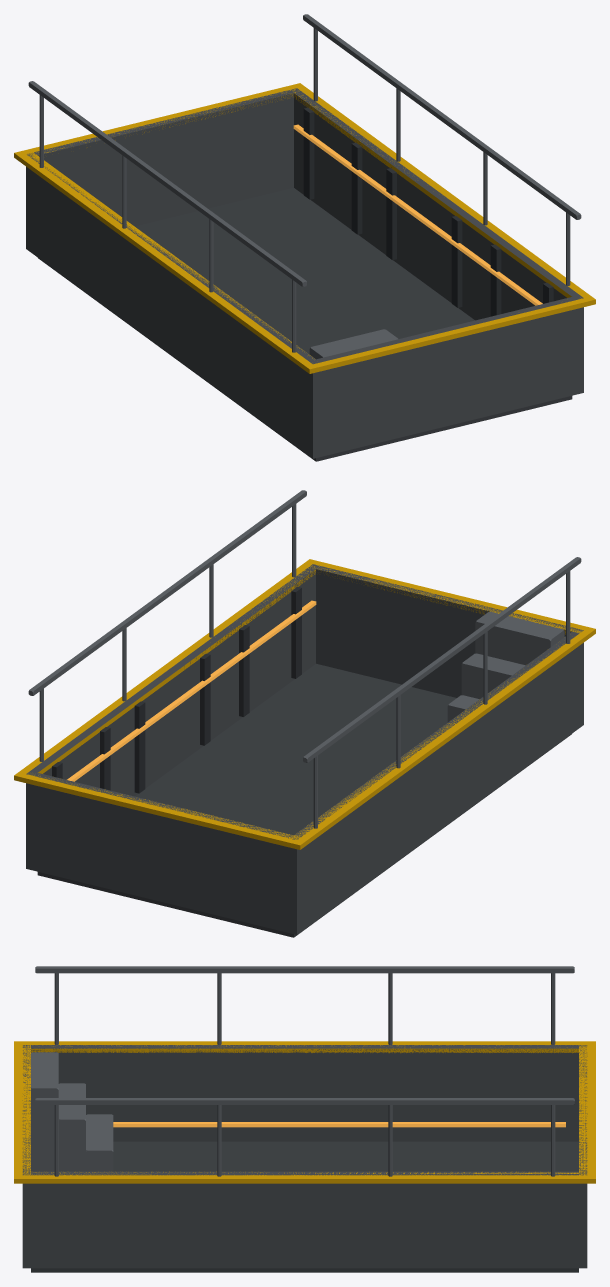
File: hum_crew_pit.glb
3 views of the same model, one above another, from view 1: azimuth 30°, elevation 25°; view 2: azimuth 150°, elevation 25°; view 3: azimuth 270°, elevation 25° (orthographic).
Visible parts, largest first — view 1: pit; view 2: pit; view 3: pit.
Part boxes in pixels (x1,y1,x2,y2): pit: [14, 14, 595, 461]; pit: [14, 490, 595, 937]; pit: [14, 966, 595, 1272].
Size of what is drawn, in the model's own units: 3.8 by 2.29 by 6.8.
2 materials, 2 textured.
